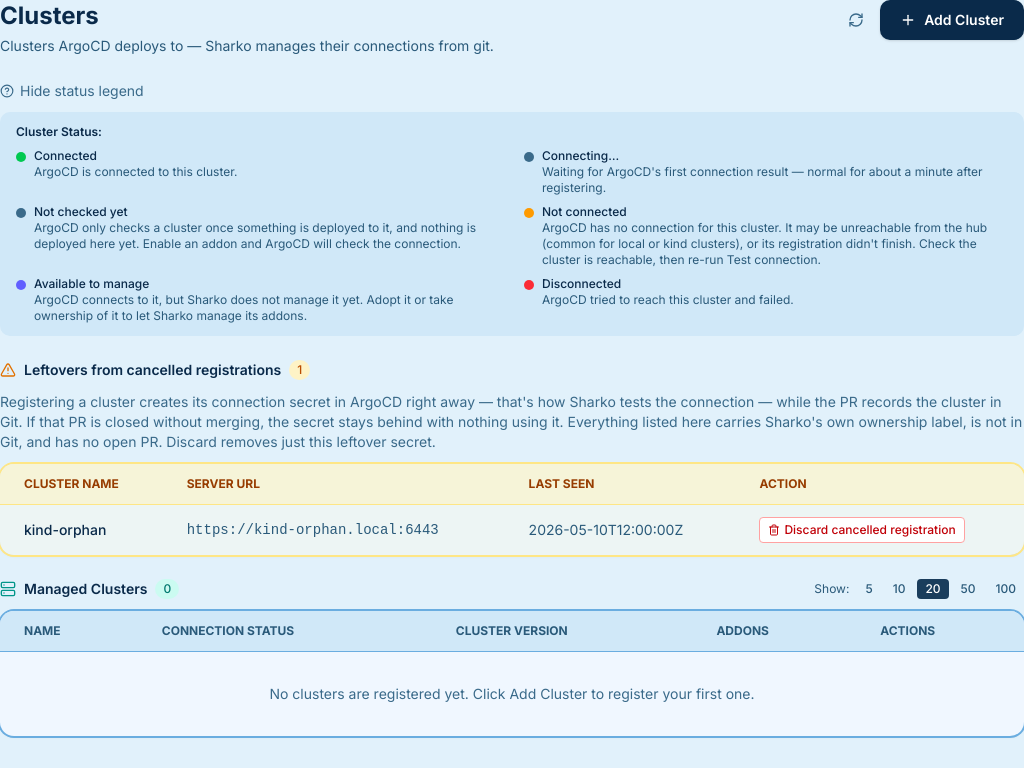
Test: ClustersOverview — V125-1-7 orphan cluster surface › modal title is "Discard this leftover secret?" (S2)
Check: the text "kind-orphan" is shown, box [0,504,163,555]
Click the button with aria-label "Discard cancelled registration for kind-orphan" at (862, 530), box [759,517,965,543]
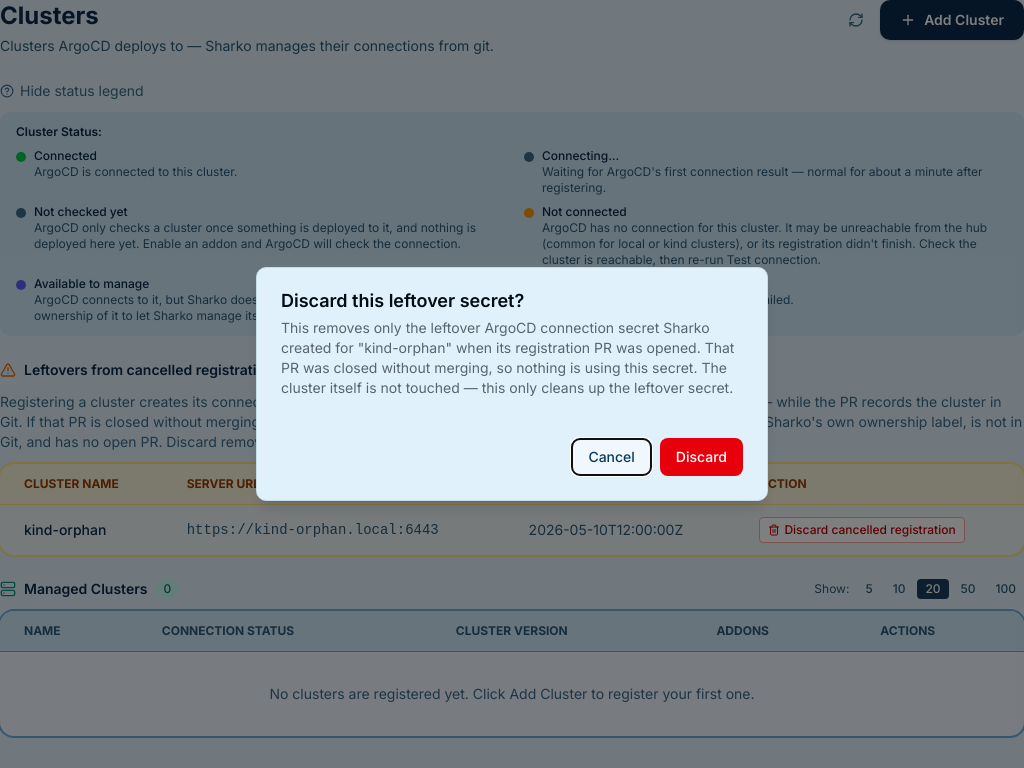
Check: the heading "Discard this leftover secret?" is shown, box [281,290,524,311]
Check: the button "Discard" is shown, box [660,438,743,476]
